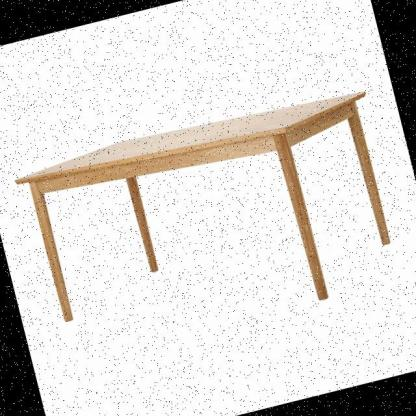Table: (22, 89, 389, 327)
